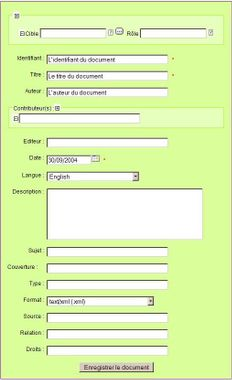_form_: (1, 1, 232, 380)
button: (79, 362, 156, 374)
field: (45, 187, 202, 241), (45, 53, 170, 66), (44, 278, 169, 291), (45, 262, 169, 275), (45, 311, 169, 324), (45, 245, 168, 258), (45, 344, 168, 357), (43, 86, 169, 98), (45, 69, 169, 81), (18, 113, 142, 125), (45, 136, 168, 148), (44, 328, 168, 339), (46, 296, 155, 307), (47, 171, 140, 182), (139, 26, 208, 40), (38, 27, 107, 38), (46, 154, 94, 165)
field_with_label: (13, 186, 204, 243), (14, 105, 143, 127), (8, 261, 170, 276), (17, 52, 172, 67), (27, 343, 169, 359), (24, 310, 171, 325), (23, 135, 169, 150), (28, 244, 169, 259), (29, 277, 170, 292), (26, 85, 170, 99), (30, 68, 170, 82), (19, 327, 169, 340), (23, 295, 156, 308), (21, 169, 141, 183), (126, 24, 209, 42), (26, 25, 108, 39), (28, 153, 95, 166)
